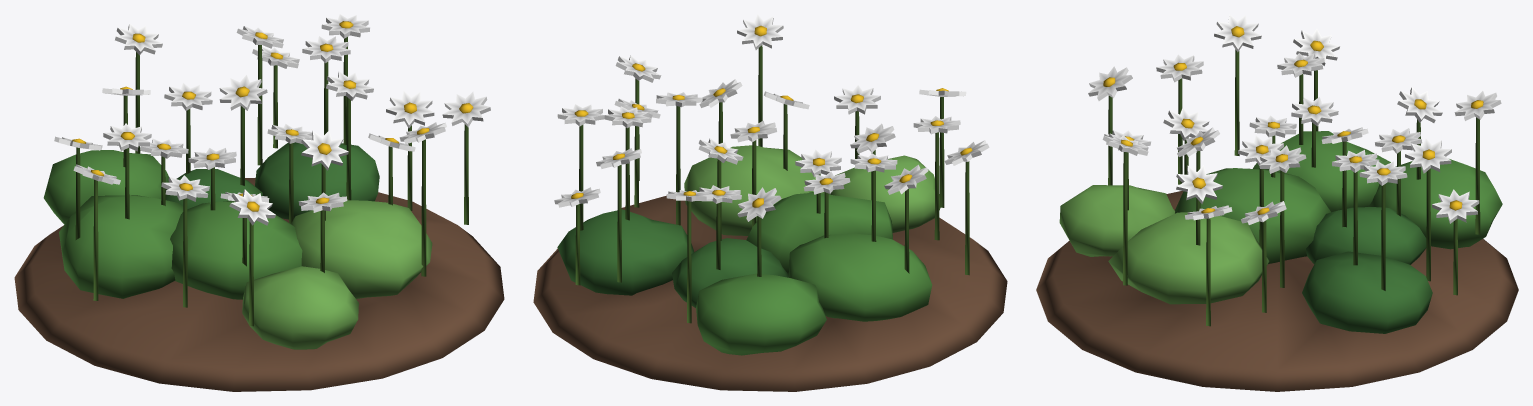
File: daisies.glb
3 renders of one model, left to right at view 1: azimuth 30°, elevation 25°; view 2: azimuth 150°, elevation 25°; view 3: azimuth 270°, elevation 25°, orthographic. The views are drawn at different scales.
Visible parts, largest first — view 1: daisies; view 2: daisies; view 3: daisies.
Part boxes in pixels (<box>): daisies: <box>14,14,504,391</box>; daisies: <box>533,14,1007,391</box>; daisies: <box>1036,14,1518,391</box>.
Size of the model in its own units: 0.84 by 0.3765 by 0.84.
